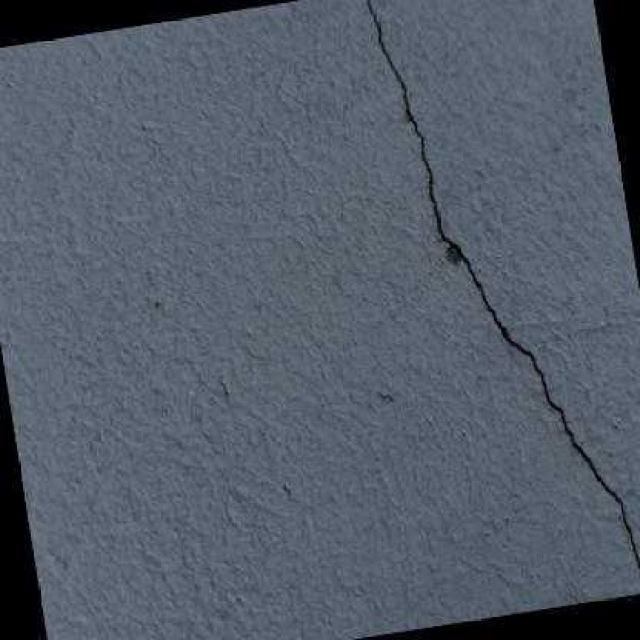D00: (365, 0, 640, 574)
